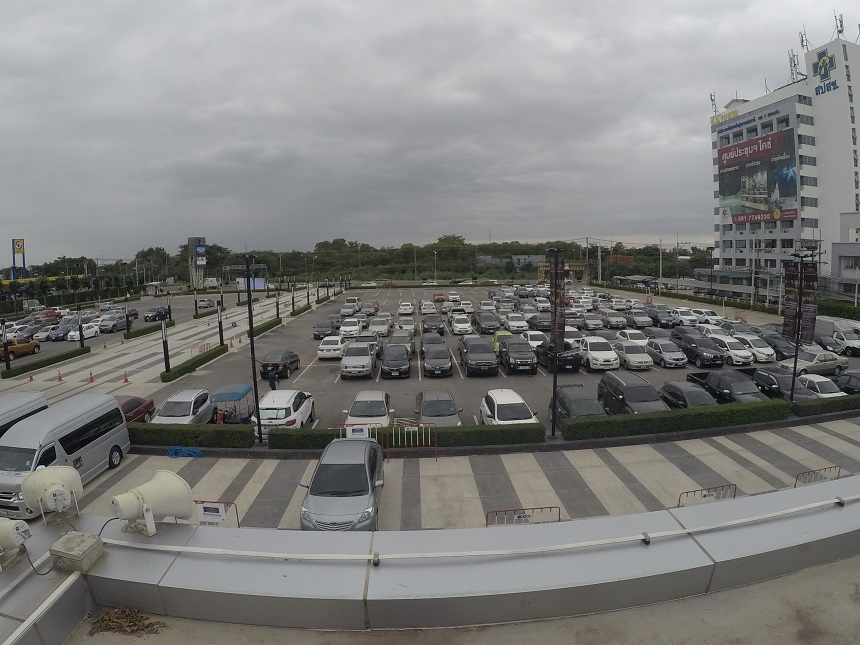busy: (304, 463, 374, 522), (47, 419, 125, 465), (263, 394, 313, 424), (161, 395, 209, 422), (483, 396, 532, 422), (346, 396, 389, 424), (610, 383, 656, 409), (1, 394, 38, 422), (418, 399, 463, 422), (544, 348, 583, 373), (716, 380, 757, 401), (380, 355, 415, 379), (261, 355, 293, 379), (340, 356, 374, 378), (557, 396, 594, 415), (465, 356, 500, 376), (668, 387, 704, 406), (119, 393, 151, 412), (689, 348, 722, 366), (506, 353, 537, 372), (773, 381, 805, 396), (427, 358, 454, 375), (588, 350, 615, 367), (625, 354, 654, 369), (660, 352, 687, 367), (728, 349, 753, 365), (815, 379, 837, 392), (842, 373, 860, 388), (823, 342, 842, 355), (758, 347, 775, 361), (781, 346, 799, 358), (847, 339, 859, 354), (805, 344, 818, 357)
